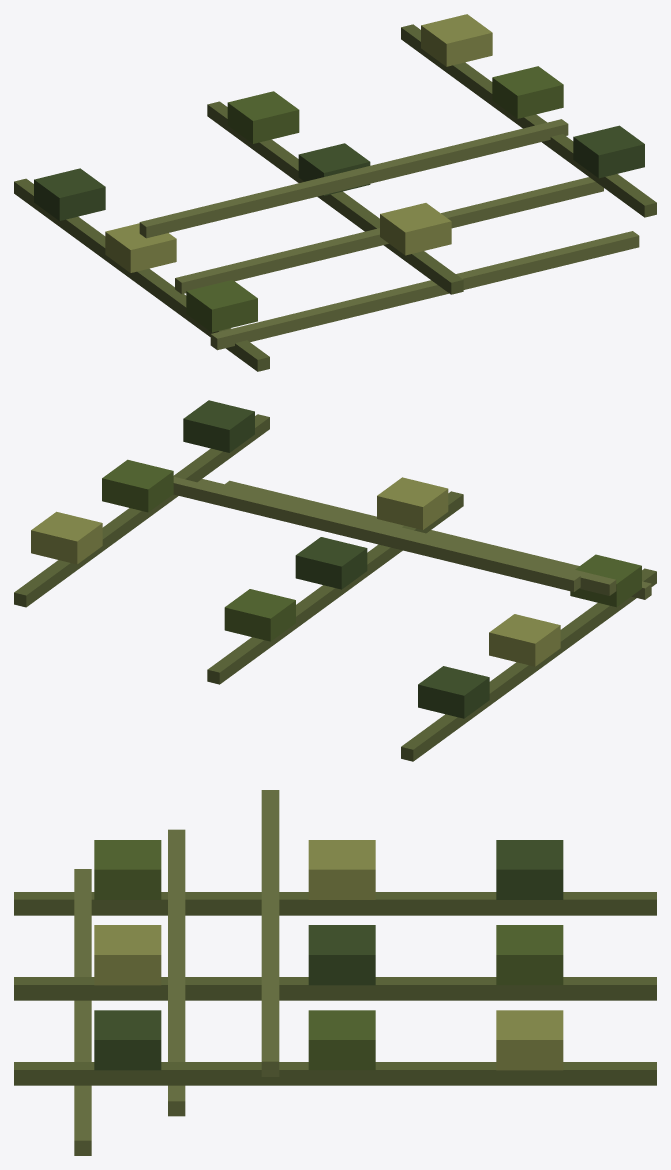
The model's file is CMU3DLightVines.glb.
3 views of the same model, one above another, from view 1: azimuth 30°, elevation 25°; view 2: azimuth 150°, elevation 25°; view 3: azimuth 270°, elevation 25° (orthographic). The views are drawn at different scales.
Parts seen in each view (by area): view 1: leaf cluster (×9), vine cross branch (×3), vine stem (×3); view 2: leaf cluster (×9), vine cross branch (×3), vine stem (×3); view 3: vine stem (×3), leaf cluster (×9), vine cross branch (×3).
Boxes of the visible parts, box(x1,y1,x2,y2) form: leaf cluster (×9): box(34, 14, 644, 332); vine cross branch (×3): box(139, 119, 639, 350); vine stem (×3): box(14, 24, 656, 371); leaf cluster (×9): box(31, 400, 641, 718); vine cross branch (×3): box(173, 476, 651, 599); vine stem (×3): box(14, 414, 656, 761); vine stem (×3): box(14, 892, 656, 1085); leaf cluster (×9): box(94, 840, 563, 1070); vine cross branch (×3): box(74, 790, 279, 1155).
Bounding box in the file's own units: 0.99 × 0.225 × 0.96.
